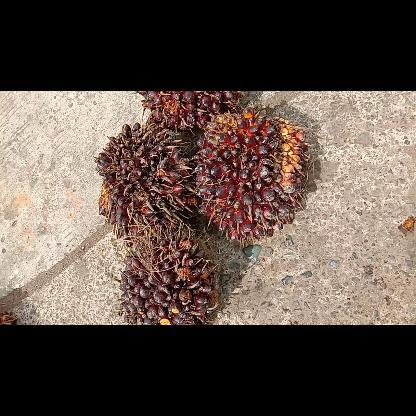Kurang masak: (192, 104, 312, 246), (95, 120, 202, 230), (114, 234, 224, 324)
